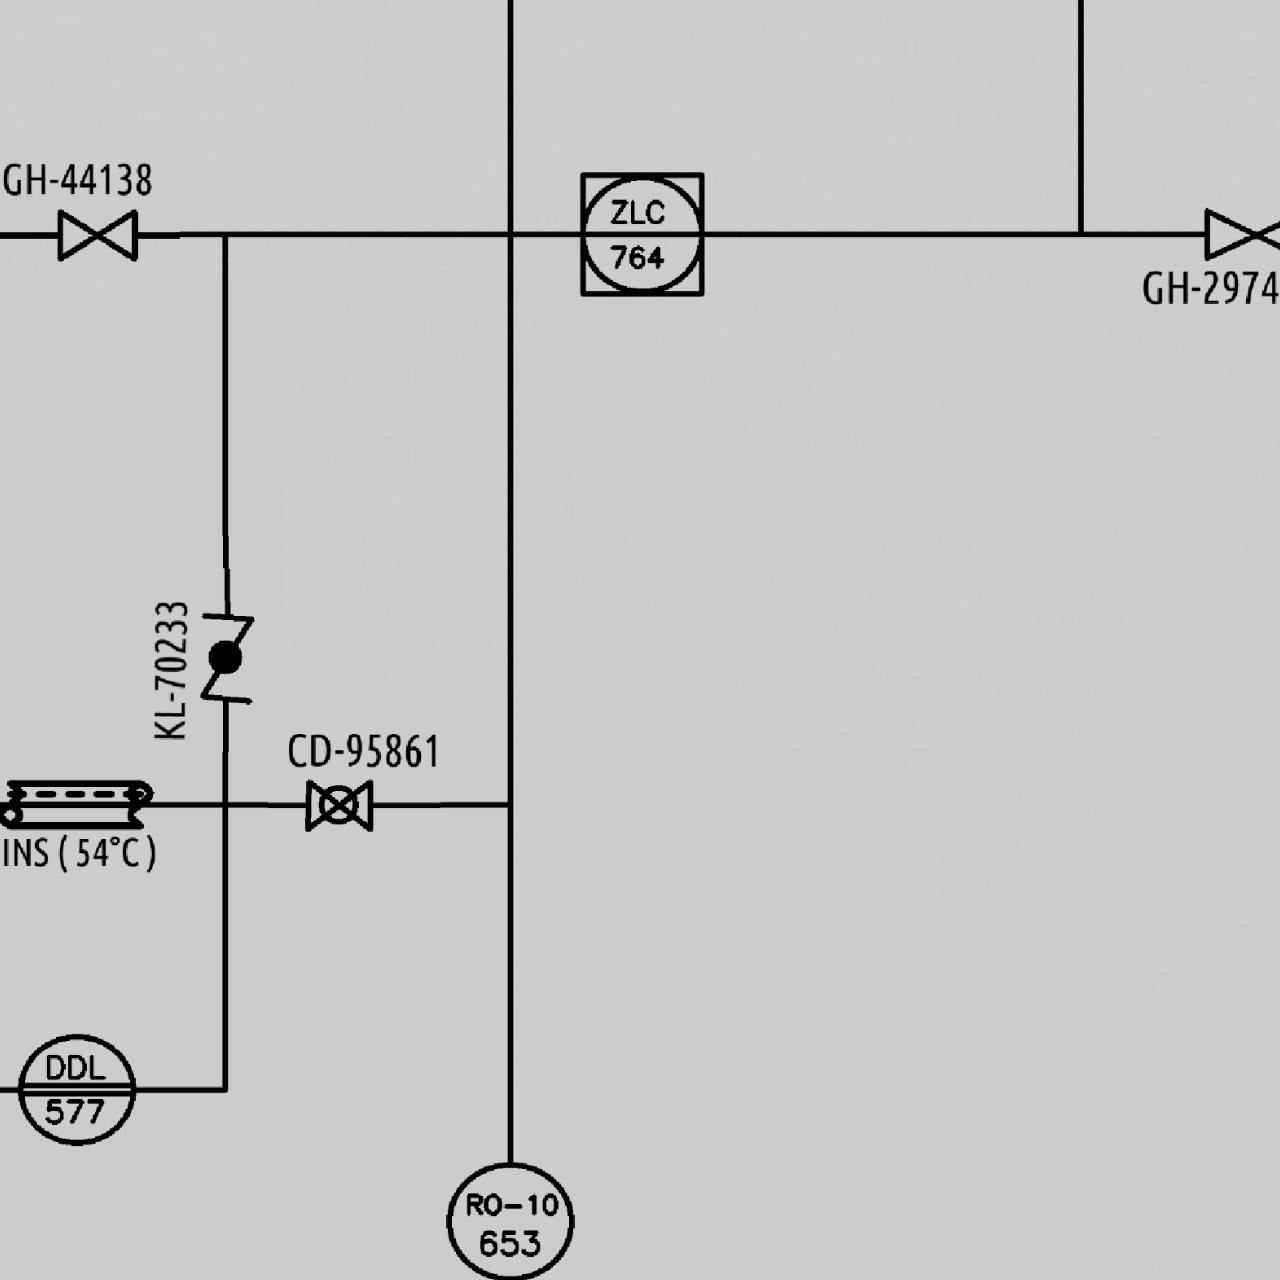Control-Panel: (12, 1026, 139, 1151)
